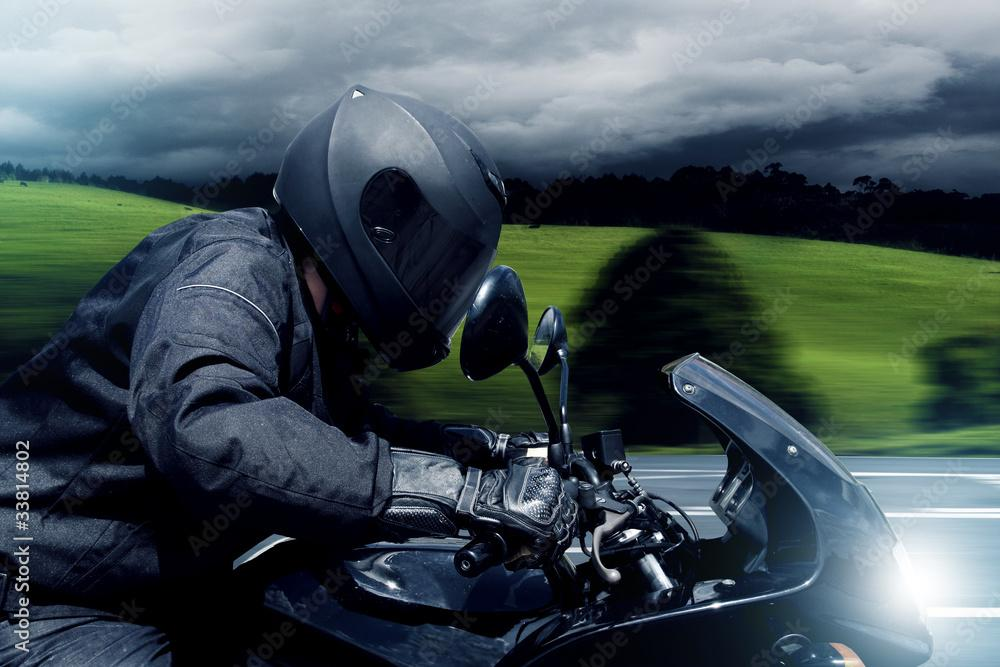helmet: (270, 82, 509, 374)
